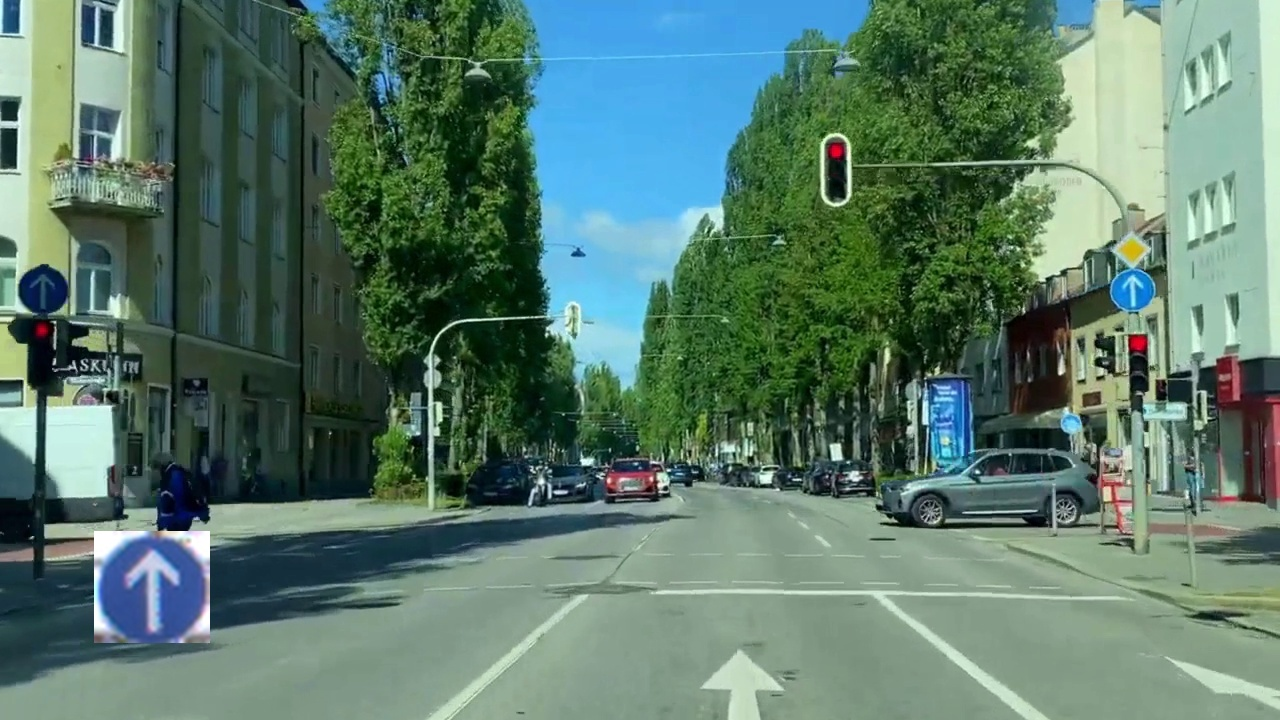Ahead only: (94, 531, 210, 643)
